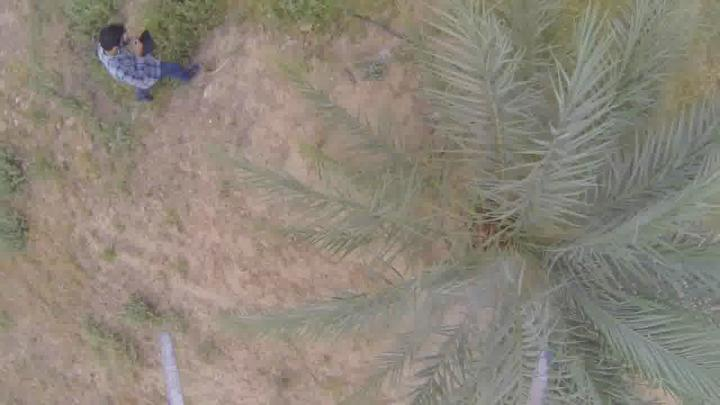Date-Palm-Crown: (421, 75, 703, 399)
